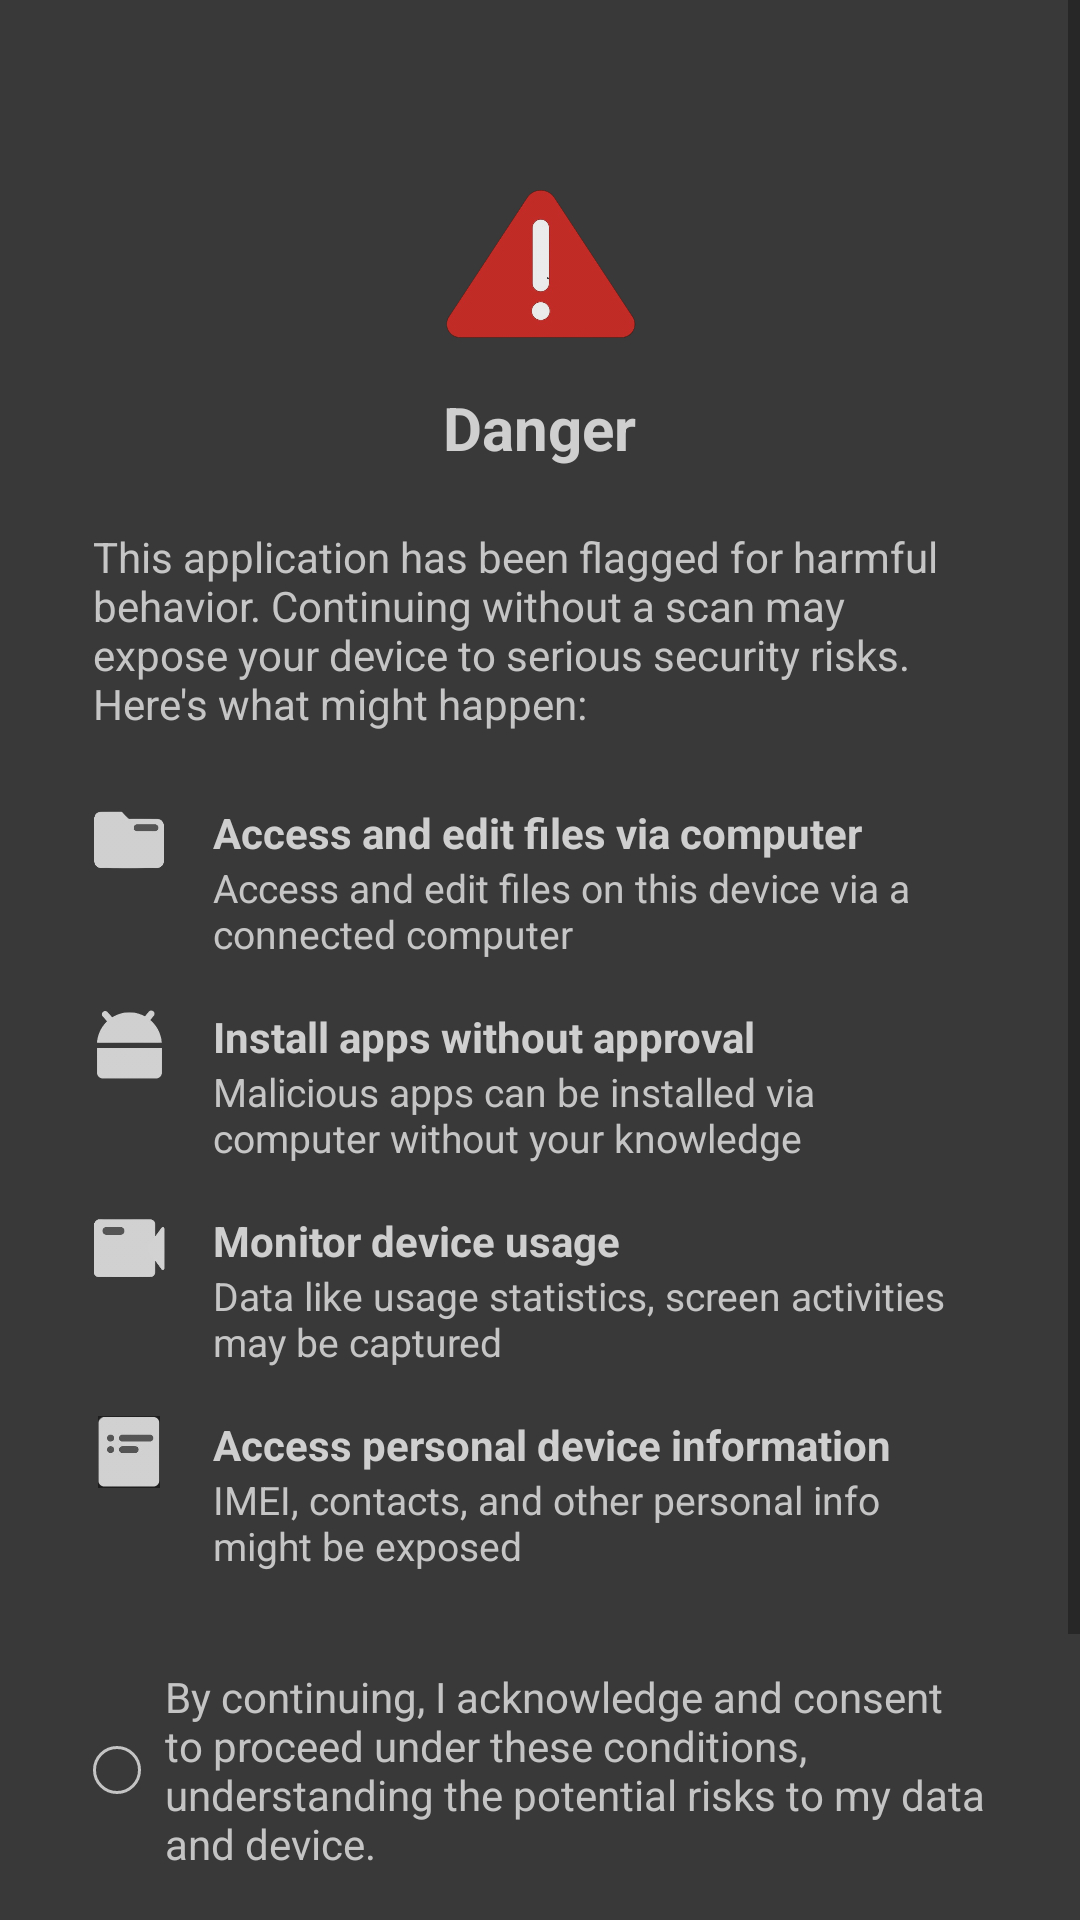

Point at icon controls on the screen. Image size 1080×1920, points as point (x, y).
document: point (129, 1452)
folder: point (129, 840)
recording: point (129, 1248)
